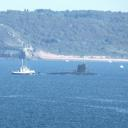submarine: (48, 65, 104, 76)
